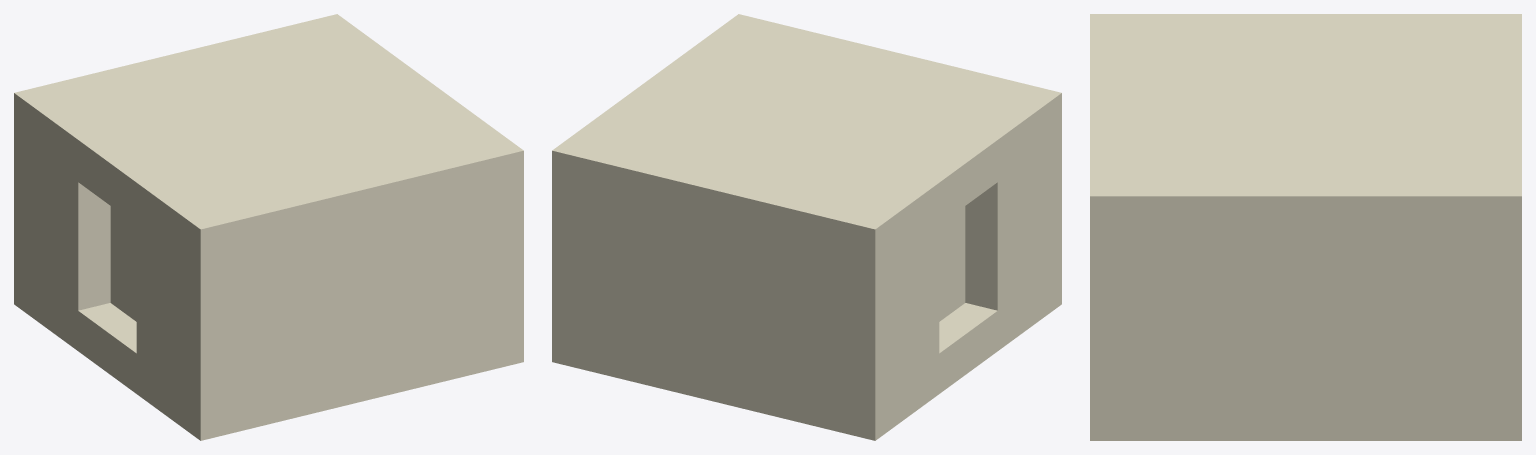
File: modularbuildings_048.glb
3 renders of one model, left to right at view 1: azimuth 30°, elevation 25°; view 2: azimuth 150°, elevation 25°; view 3: azimuth 270°, elevation 25°, orthographic. The views are drawn at different scales.
Visible parts, largest first — view 1: Mesh1 Group1 Model; view 2: Mesh1 Group1 Model; view 3: Mesh1 Group1 Model.
Boxes of the visible parts, box(x1,y1,x2,y2) form: Mesh1 Group1 Model: box(14, 14, 523, 440); Mesh1 Group1 Model: box(552, 14, 1061, 440); Mesh1 Group1 Model: box(1090, 14, 1521, 440).
Bounding box in the file's own units: 1 × 0.625 × 1.
